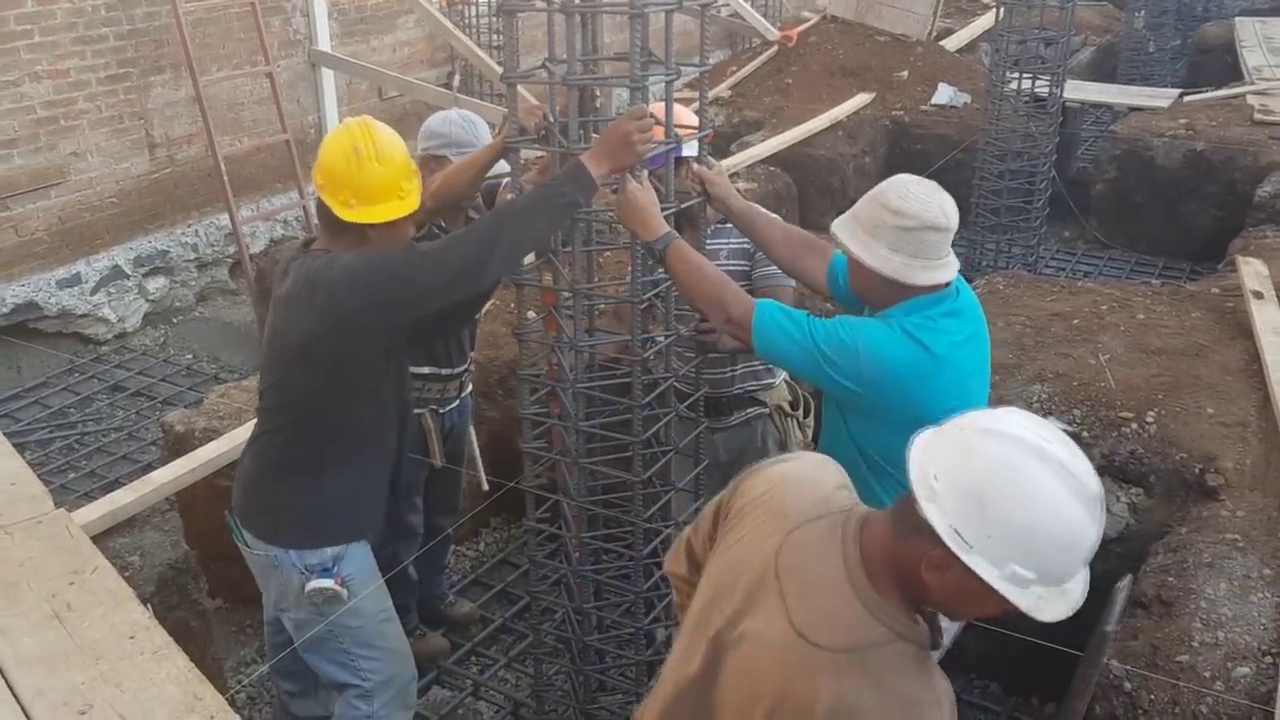helmet: (903, 407, 1103, 626), (315, 103, 429, 225), (632, 103, 700, 163)
helmet-off: (813, 173, 963, 314), (412, 104, 501, 228)
helmet-on: (842, 416, 1105, 654), (303, 105, 432, 257), (630, 100, 734, 231)
person: (203, 95, 624, 713), (649, 407, 1103, 720), (609, 138, 997, 504), (604, 94, 828, 497), (402, 104, 532, 682)
